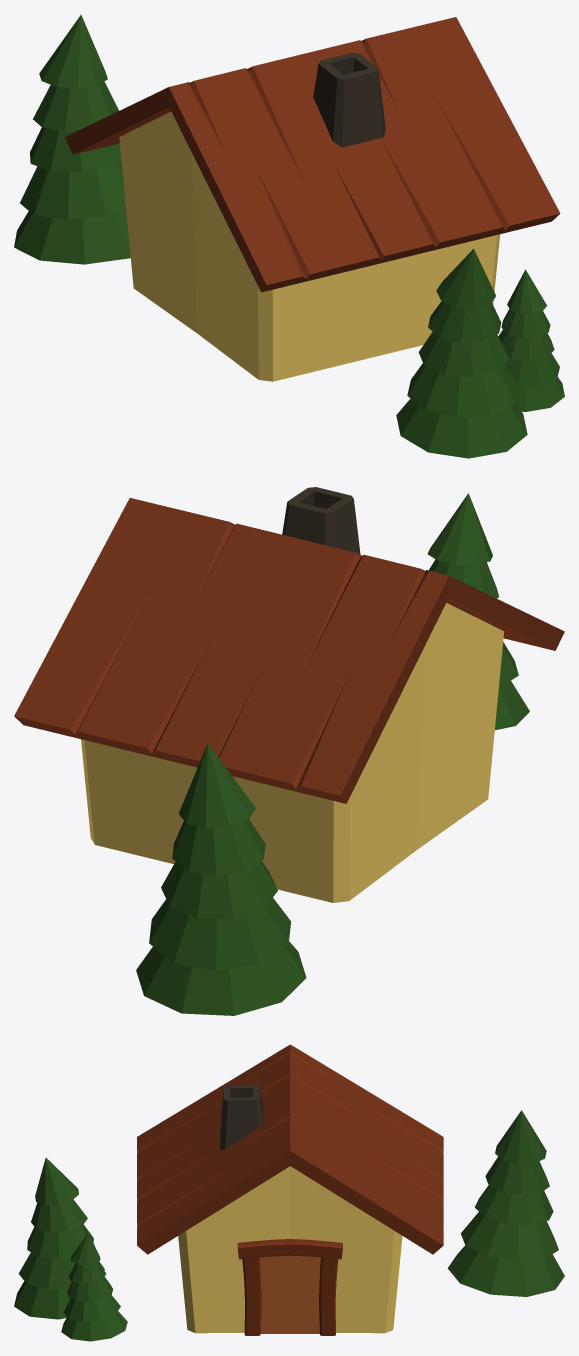
Rendered from House.fbx.
3 views of the same model, one above another, from view 1: azimuth 30°, elevation 25°; view 2: azimuth 150°, elevation 25°; view 3: azimuth 270°, elevation 25° (orthographic). The views are drawn at different scales.
Parts seen in each view (by area): view 1: casa, Cone.002, Cone, Cone.001, Cube; view 2: casa, Cone.002, Cone, Cube; view 3: casa, Cone.002, Cone, Cone.001, Cube.
Boxes of the visible parts, x1,y1,x2,y2 form: casa: (64, 17, 560, 381); Cone.002: (14, 14, 130, 264); Cone: (396, 248, 527, 458); Cone.001: (498, 269, 564, 412); Cube: (313, 52, 385, 147); casa: (14, 498, 564, 902); Cone.002: (136, 743, 306, 1015); Cone: (427, 493, 529, 730); Cube: (282, 487, 360, 554); casa: (137, 1044, 443, 1335); Cone.002: (447, 1110, 564, 1296); Cone: (14, 1157, 112, 1319); Cone.001: (61, 1233, 127, 1341); Cube: (220, 1084, 263, 1150).
Bounding box in the file's own units: 257 × 239 × 550.
